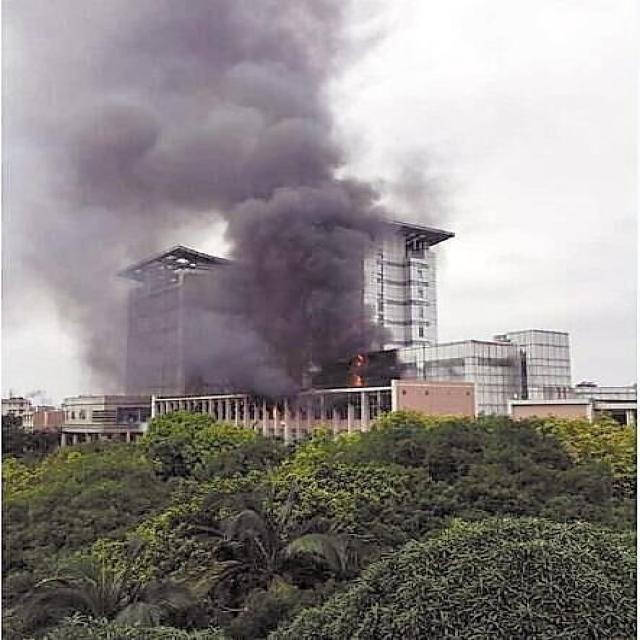Smoke: (1, 1, 451, 417)
